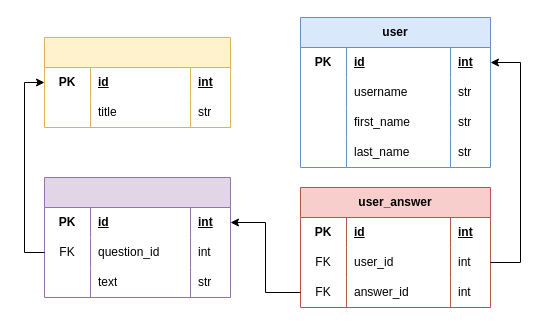
Image size: 546x325. Some labels were removed from this diagram. The shapes that lost their labels are listed below. From the top down, each one's box as (x1, y1, x2, y2) in pixels, then its label:
(44, 36, 230, 128): question
(44, 176, 230, 298): answer
